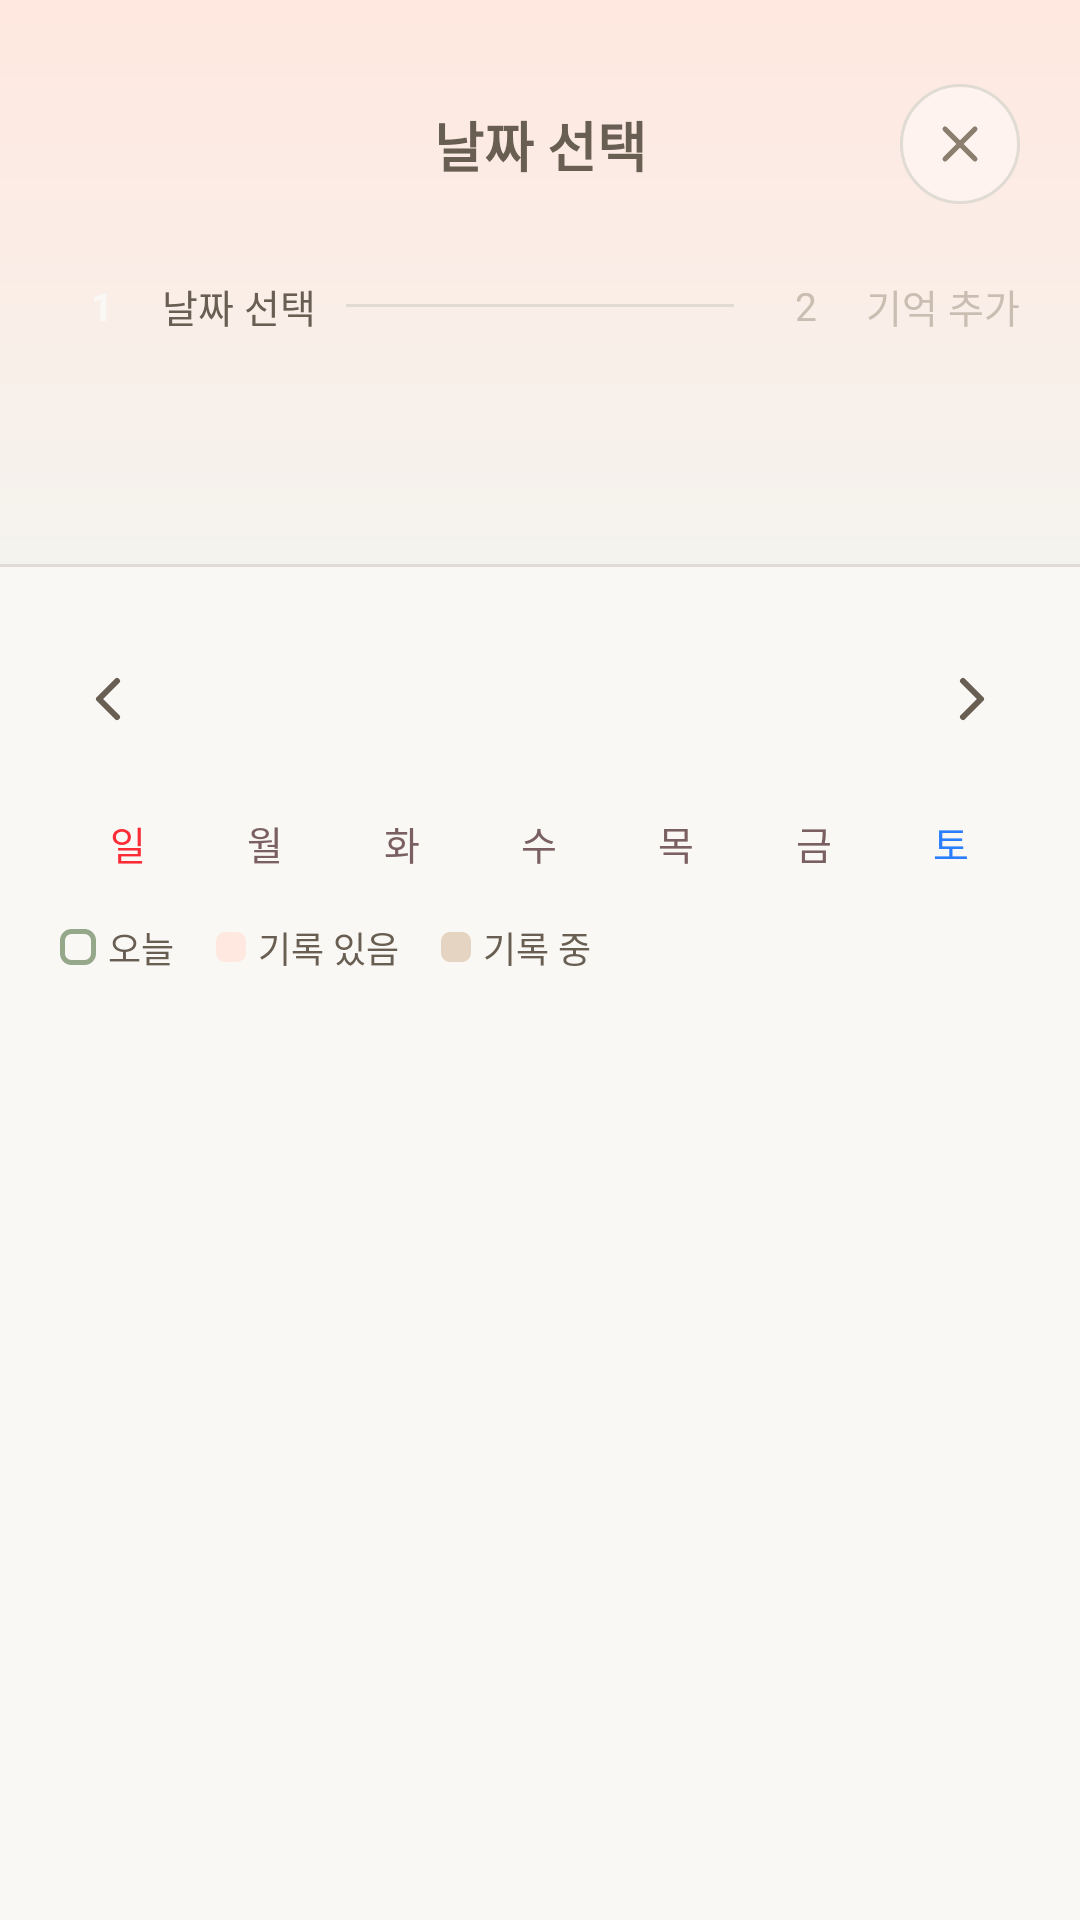

Locate icon controls on the screen. Image size 1080x1920, boxes as (x1, y1, x2, y2).
다음 달: (960, 678, 984, 720)
닫기: (900, 84, 1020, 204)
이전 달: (96, 678, 120, 720)
